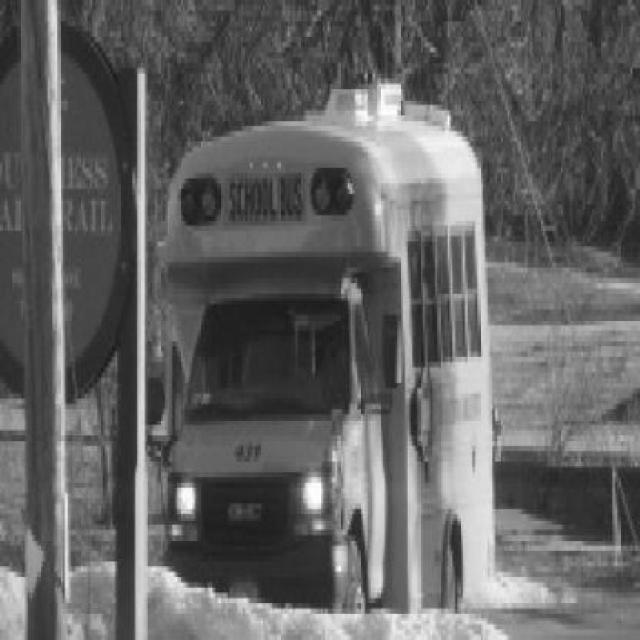Bus- Small: (151, 84, 496, 616)
